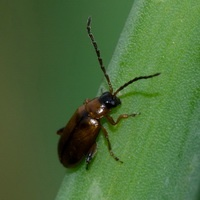insect: (57, 17, 159, 167)
